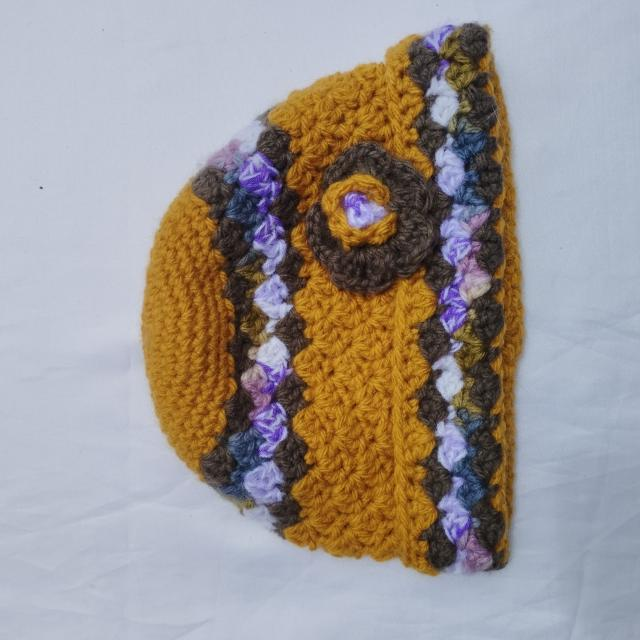Gorro: (140, 21, 526, 577)
